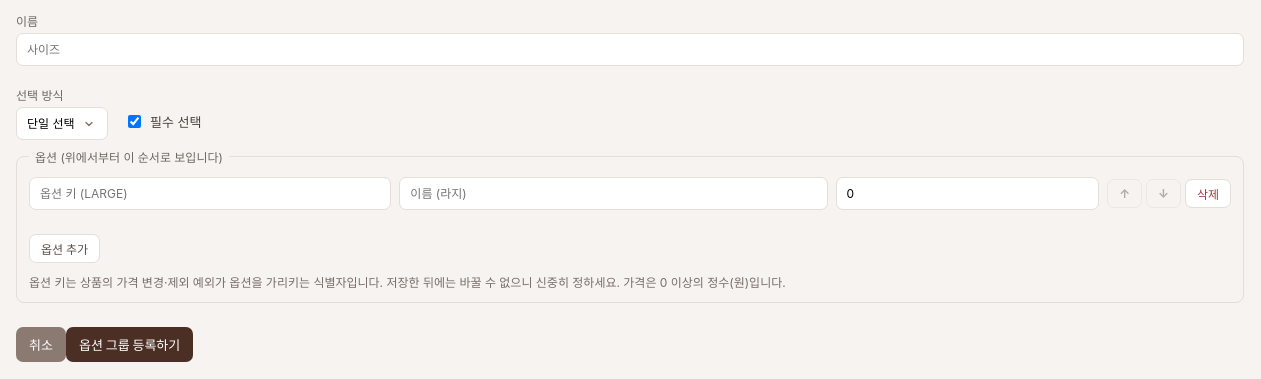
OptionGroupForm 등록 › 입력 중에는 오류를 띄우지 않고 칸을 벗어나면 보여준다
The image size is (1261, 379).
Replace the text in the field named "옵션 1 가격" with "-5" at (967, 194), box left=836, top=177, right=1099, bottom=210
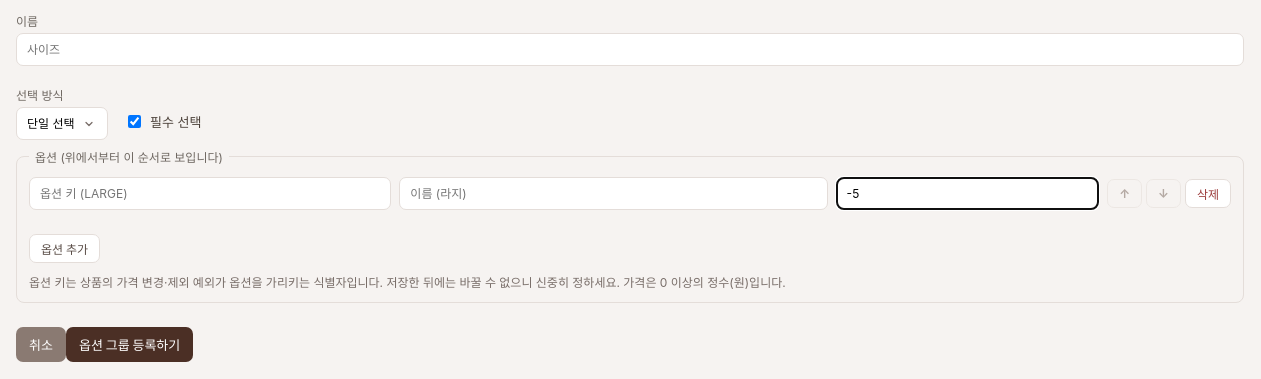
Expected: the text "0 이상의 정수로 입력하세요." is not shown
Press Tab
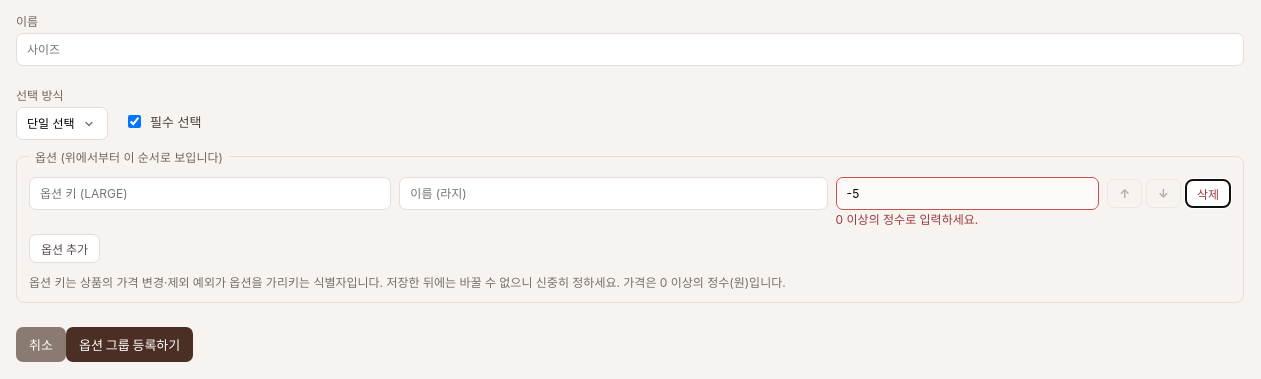
Expected: the text "0 이상의 정수로 입력하세요." is shown, left=836, top=212, right=978, bottom=227
